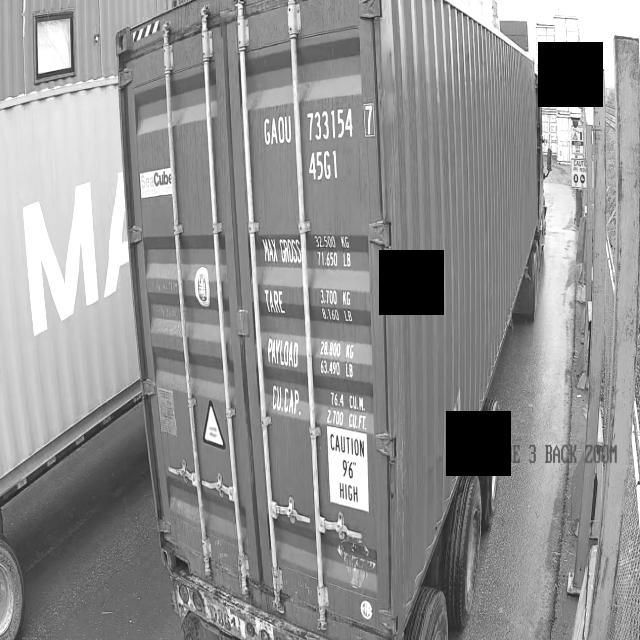container_company_logo: (136, 168, 176, 196)
container_number: (261, 107, 378, 186)
other_container_info: (260, 229, 375, 436)
truck_with_container: (115, 0, 551, 640), (0, 79, 140, 640)
